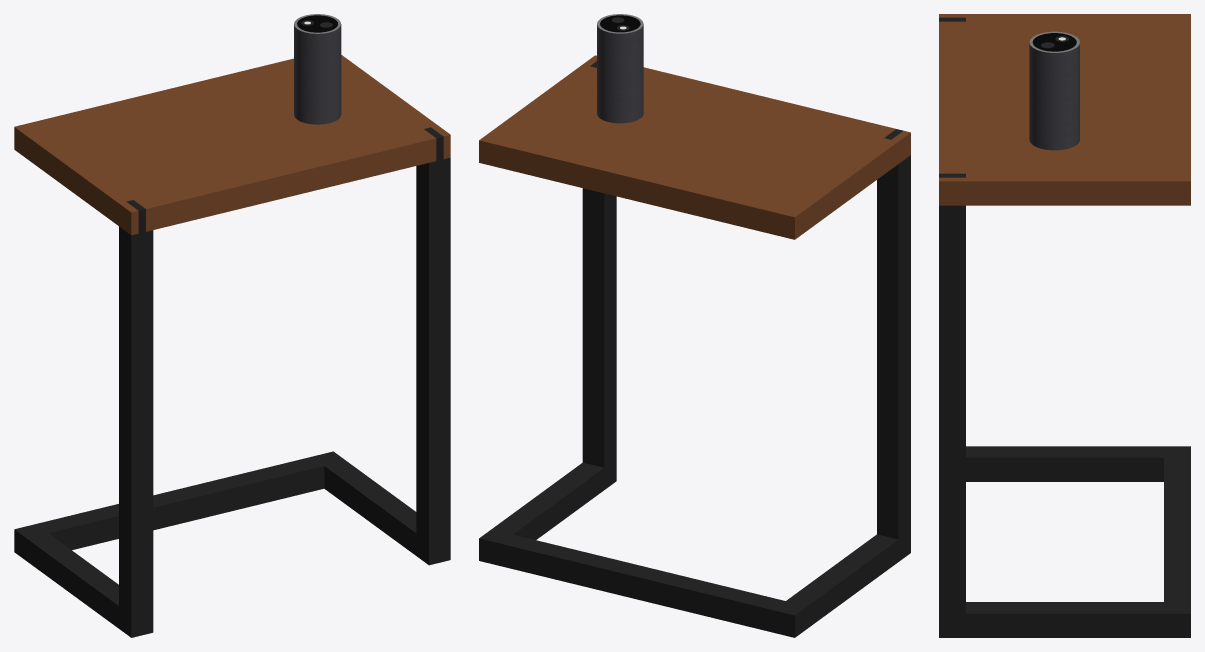
File: 6k_night_stand.fbx
The picture shows the model from 3 angles, left to right: view 1: azimuth 30°, elevation 25°; view 2: azimuth 150°, elevation 25°; view 3: azimuth 270°, elevation 25°; orthographic projection. The views are drawn at different scales.
Visible parts, largest first — view 1: Table_Top1, table_stile2, table_stile1, Back_Rail_1_1, Table_front_rail_tenon_top_or_bottom1, Table_side_rail_top_or_bottom_1_1, Amazon_Echo__Alexa1, Table_side_rail_top_or_bottom1, Table_side_rail_top_or_bottom2, Table_front_rail_tenon_top_or_bottom_1_1, Table_side_rail_top_or_bottom_2_1; view 2: Table_Top1, table_stile2, Table_front_rail_tenon_top_or_bottom1, Table_front_rail_tenon_top_or_bottom_1_1, table_stile1, Table_side_rail_top_or_bottom_1_1, Table_side_rail_top_or_bottom1, Amazon_Echo__Alexa1, Table_side_rail_top_or_bottom2, Back_Rail_1_1, Table_side_rail_top_or_bottom_2_1; view 3: Table_Top1, table_stile1, Table_side_rail_top_or_bottom_2_1, Table_side_rail_top_or_bottom2, Table_side_rail_top_or_bottom1, Amazon_Echo__Alexa1, Table_front_rail_tenon_top_or_bottom_1_1, Table_front_rail_tenon_top_or_bottom1, Back_Rail_1_1, Table_side_rail_top_or_bottom_1_1.
Boxes of the visible parts, x1,y1,x2,y2 form: Table_Top1: (49, 71, 415, 197); table_stile2: (119, 200, 153, 635); table_stile1: (416, 127, 450, 563); Back_Rail_1_1: (141, 131, 428, 229); Table_front_rail_tenon_top_or_bottom1: (14, 456, 324, 553); Table_side_rail_top_or_bottom_1_1: (14, 121, 153, 235); Amazon_Echo__Alexa1: (294, 14, 341, 124); Table_side_rail_top_or_bottom1: (14, 524, 153, 637); Table_side_rail_top_or_bottom2: (312, 451, 450, 565); Table_front_rail_tenon_top_or_bottom_1_1: (14, 58, 293, 150); Table_side_rail_top_or_bottom_2_1: (341, 55, 450, 162); Table_Top1: (513, 75, 876, 202); table_stile2: (877, 129, 910, 539); Table_front_rail_tenon_top_or_bottom1: (479, 534, 807, 632); Table_front_rail_tenon_top_or_bottom_1_1: (479, 136, 807, 234); table_stile1: (582, 61, 616, 467); Table_side_rail_top_or_bottom_1_1: (773, 127, 910, 239); Table_side_rail_top_or_bottom1: (773, 531, 910, 637); Amazon_Echo__Alexa1: (597, 14, 643, 123); Table_side_rail_top_or_bottom2: (479, 459, 616, 565); Back_Rail_1_1: (643, 67, 888, 136); Table_side_rail_top_or_bottom_2_1: (479, 55, 596, 167); Table_Top1: (966, 25, 1163, 169); table_stile1: (939, 173, 965, 613); Table_side_rail_top_or_bottom_2_1: (939, 170, 1190, 205); Table_side_rail_top_or_bottom2: (939, 602, 1190, 637); Table_side_rail_top_or_bottom1: (966, 446, 1190, 481); Amazon_Echo__Alexa1: (1029, 31, 1079, 150); Table_front_rail_tenon_top_or_bottom_1_1: (1164, 25, 1190, 197); Table_front_rail_tenon_top_or_bottom1: (1164, 457, 1190, 629); Back_Rail_1_1: (939, 25, 965, 169); Table_side_rail_top_or_bottom_1_1: (939, 14, 1190, 25).
Bounding box in the file's own units: 22 × 33.97 × 14.
